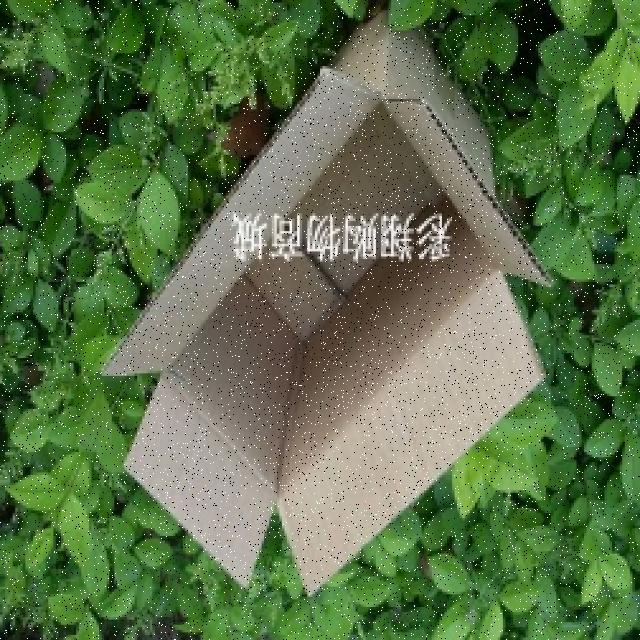box: (100, 13, 562, 615)
